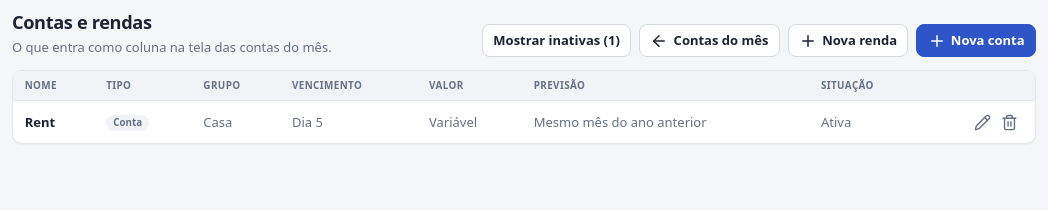
BudgetLinesPage › deletes only after confirmation and shows why the server refused
What coordinates should you click on to do the following:
click the button named "Excluir Rent"
I would click on:
 (1010, 122)
Its box is x1=996 y1=108 x2=1023 y2=136.
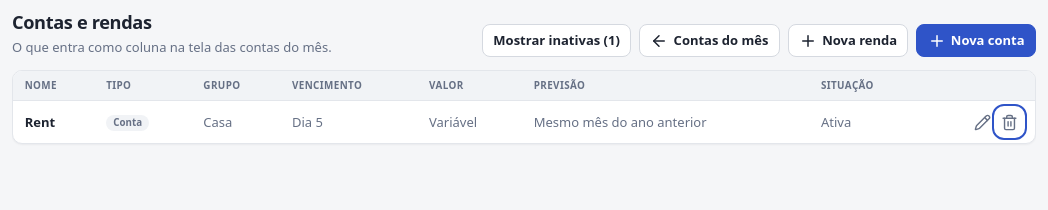
What coordinates should you click on to do the following:
click the button named "Excluir Rent"
I would click on:
 (1010, 122)
Its box is x1=996 y1=108 x2=1023 y2=136.
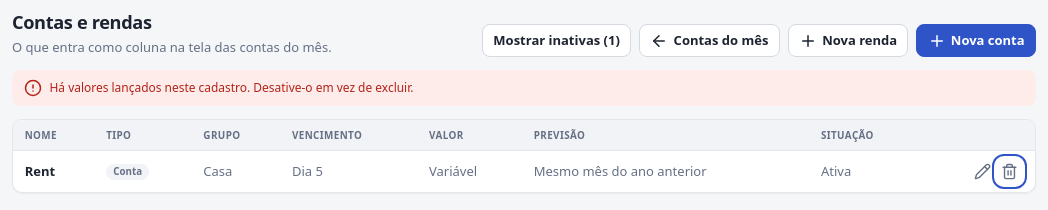
Result: the message shows "Desative-o em vez de excluir." at x1=50 y1=79 x2=413 y2=96
